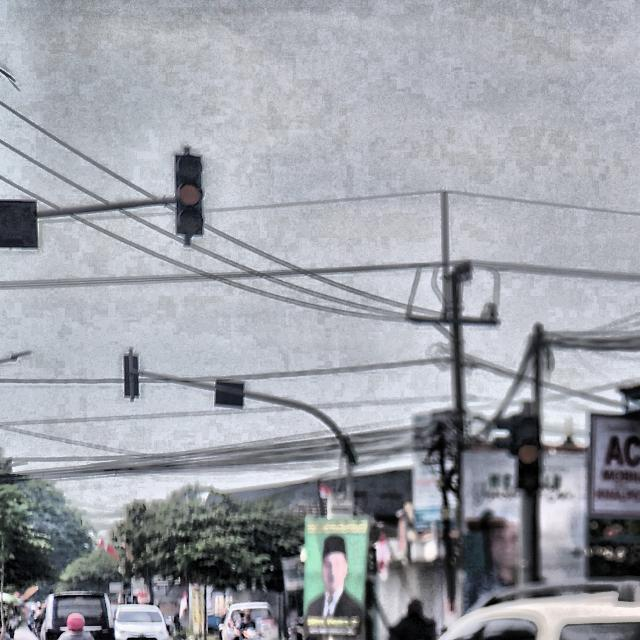yellow: (174, 155, 206, 239), (516, 415, 540, 491)
